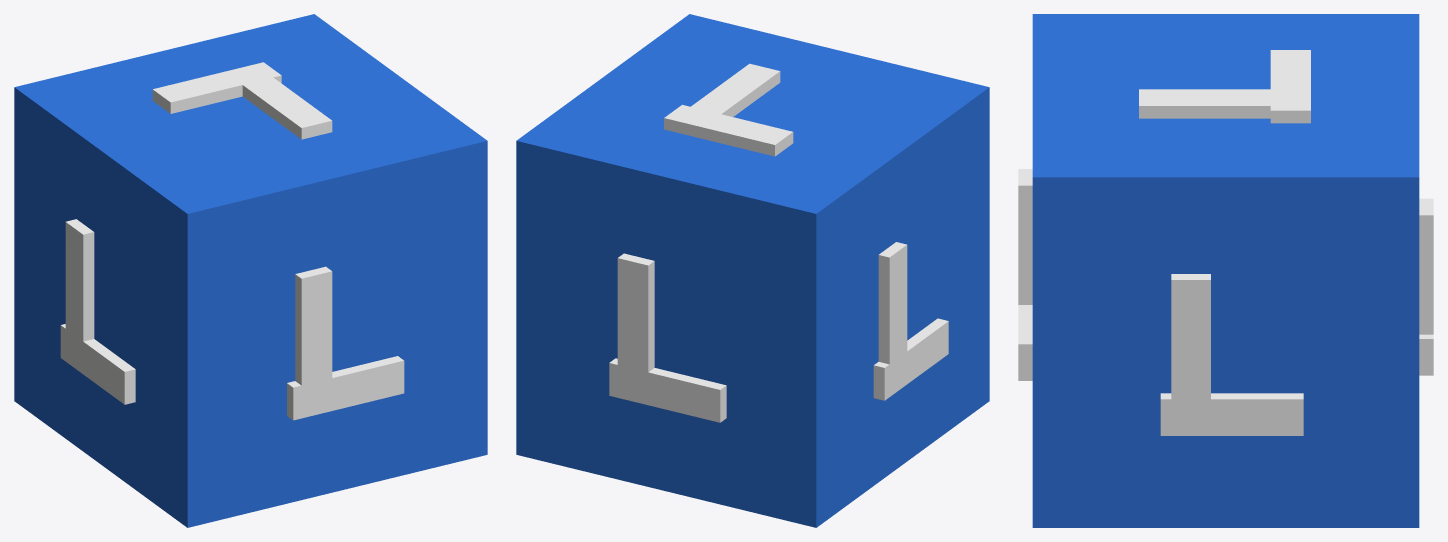
Rendered from DISTRACTOR_9.glb.
The picture shows the model from 3 angles, left to right: view 1: azimuth 30°, elevation 25°; view 2: azimuth 150°, elevation 25°; view 3: azimuth 270°, elevation 25°; orthographic projection. The views are drawn at different scales.
Visible parts, largest first — view 1: DISTRACTOR_HIGH_9; view 2: DISTRACTOR_HIGH_9; view 3: DISTRACTOR_HIGH_9.
Part boxes in pixels (left/top/right/bottom): DISTRACTOR_HIGH_9: left=14, top=14, right=487, bottom=527; DISTRACTOR_HIGH_9: left=516, top=14, right=989, bottom=527; DISTRACTOR_HIGH_9: left=1018, top=14, right=1433, bottom=527.
Bounding box in the file's own units: 2.15 × 2.15 × 2.15.
